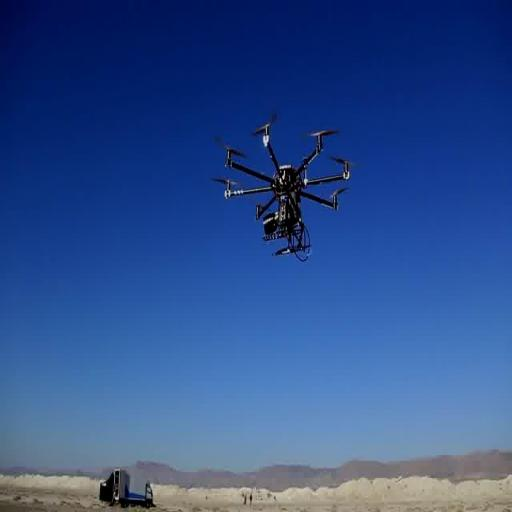drone: (212, 113, 356, 258)
